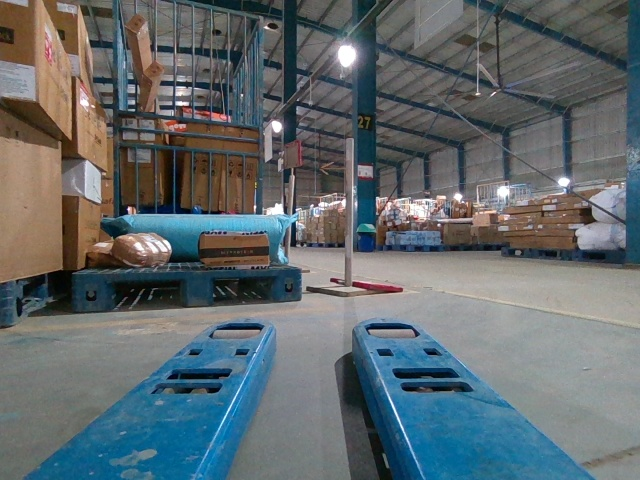block: (74, 274, 111, 312), (182, 270, 215, 308), (275, 268, 304, 304)
front: (74, 268, 302, 307)
hole pallet: (109, 280, 187, 309), (212, 276, 276, 300)
